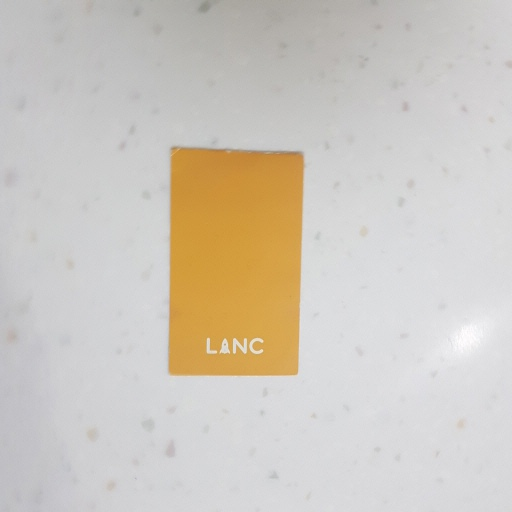Paper_2: (165, 137, 312, 387)
